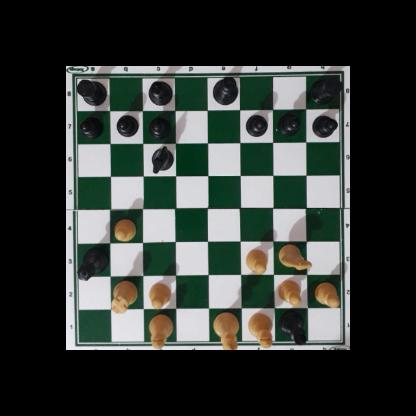black-bishop: (279, 311, 308, 347), (146, 80, 174, 105)
black-king: (212, 76, 240, 105)
black-knight: (149, 146, 175, 174)
black-pawn: (312, 113, 336, 138), (80, 114, 103, 137), (149, 114, 170, 138), (278, 112, 300, 134), (116, 114, 137, 137), (246, 113, 267, 136)
black-queen: (77, 246, 108, 282)
black-rook: (74, 77, 107, 105), (311, 74, 342, 103)
white-bishop: (149, 313, 174, 349), (247, 313, 272, 347)
white-king: (213, 312, 239, 350)
white-knight: (276, 242, 313, 272)
white-pawn: (276, 278, 302, 306), (148, 280, 171, 308), (112, 217, 138, 241), (314, 282, 339, 306), (245, 248, 267, 274)
white-rook: (110, 278, 138, 314)
